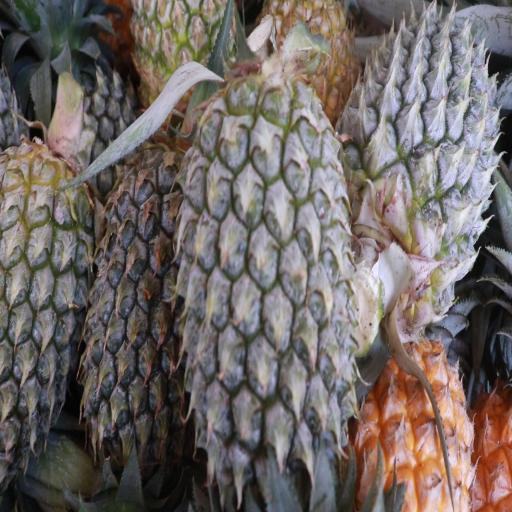Pineapple - v8 v1: (350, 327, 473, 512)
